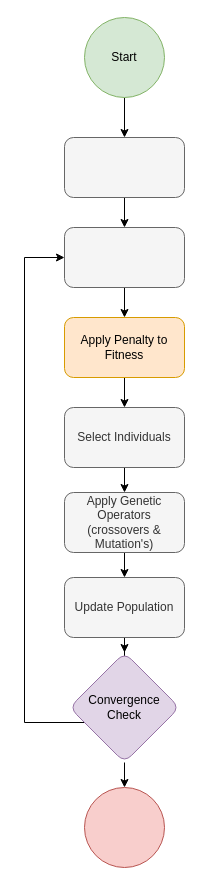
Some shapes in this 202 by 885 pixel diagram are drawn without their labels. Each missing label, with the centre of its shape:
"End" goes at point 124,827.
"Evaluate Fitness" goes at point 124,257.
"Initialize Population" goes at point 124,167.
